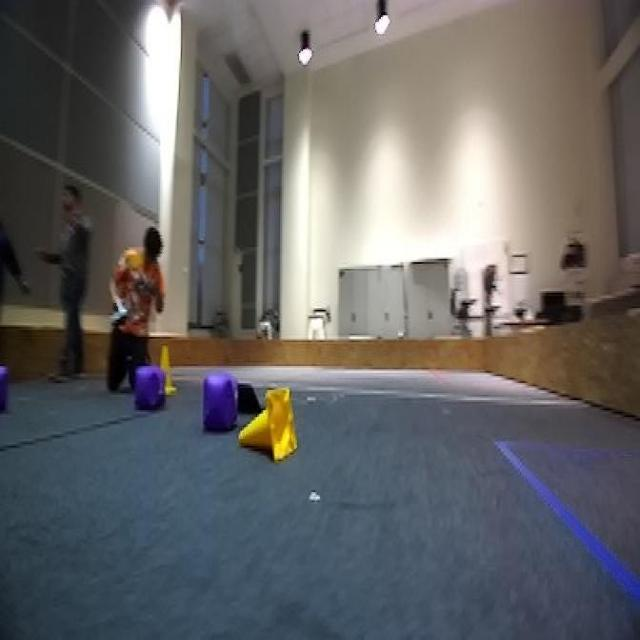frc_cone: (239, 390, 302, 460), (157, 340, 179, 390)
frc_cube: (202, 371, 240, 439), (128, 359, 162, 410), (0, 358, 10, 420)
